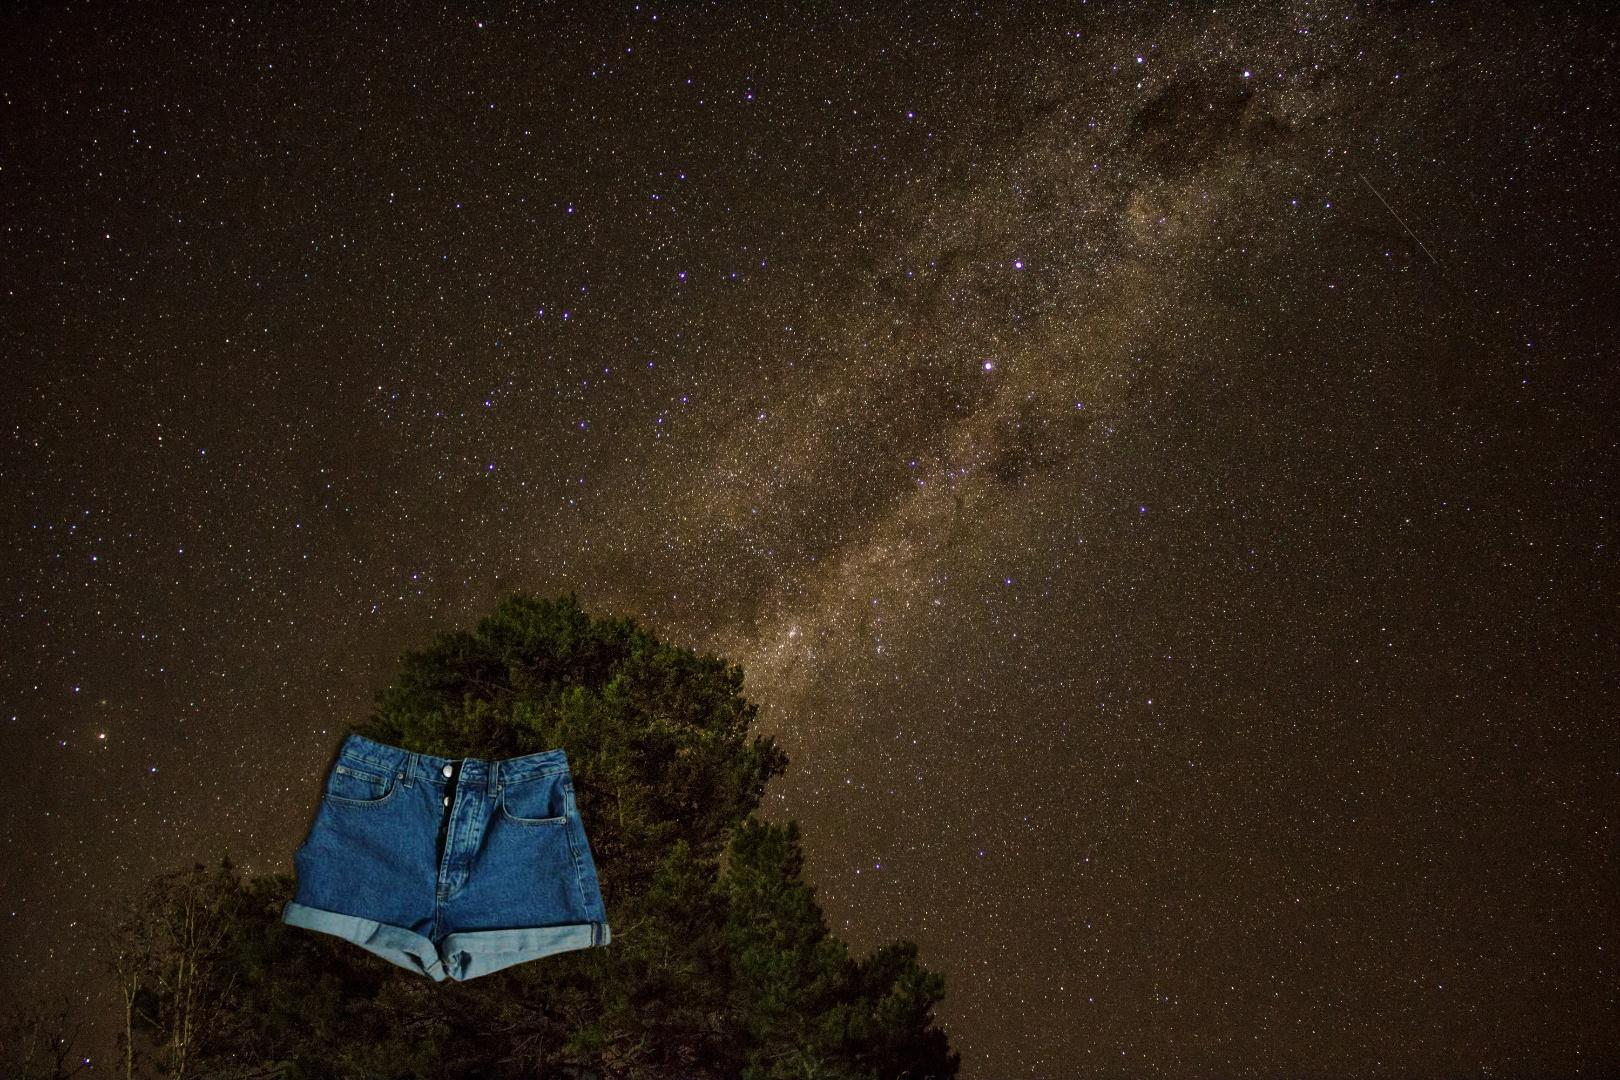clothes: (274, 729, 616, 986)
